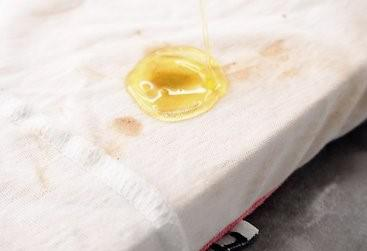gun: (119, 43, 286, 97), (100, 109, 145, 145)
